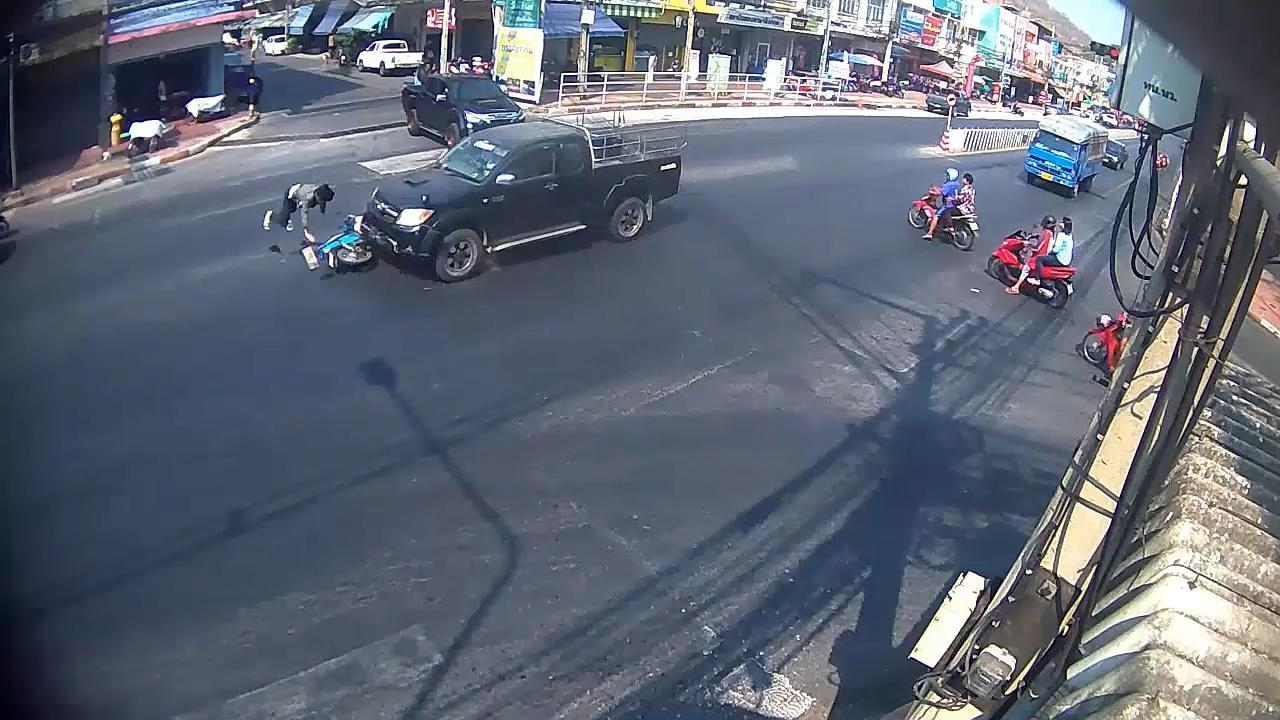accident: (262, 175, 340, 240)
